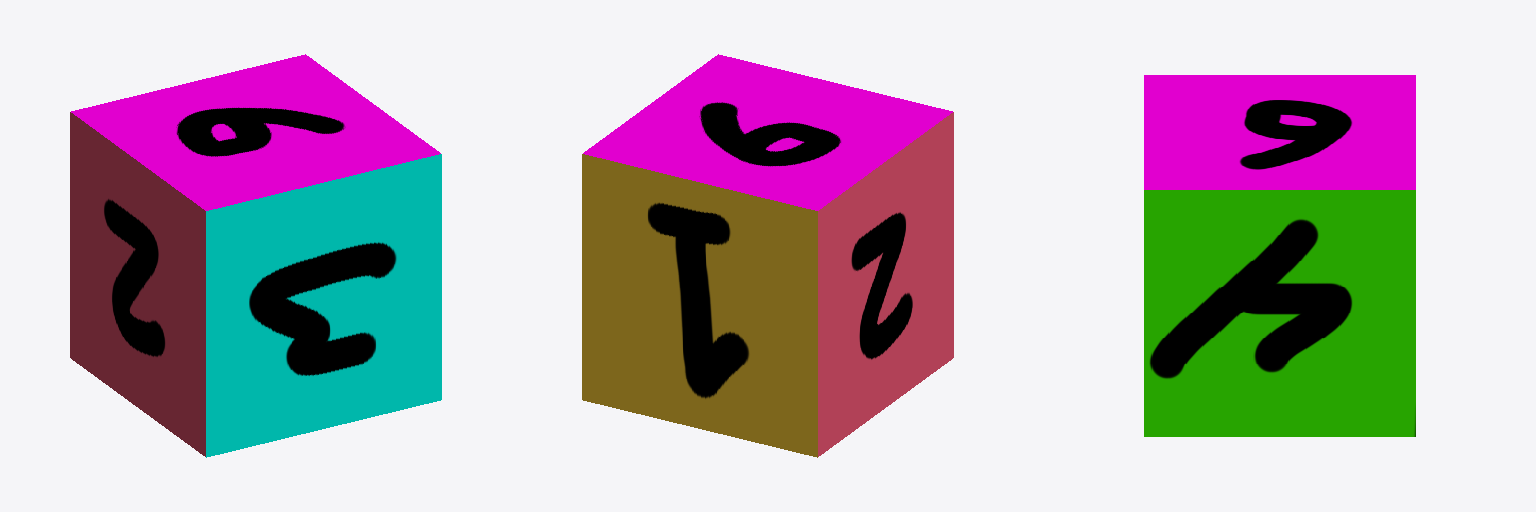
3 views of the same model, side by side, from view 1: azimuth 30°, elevation 25°; view 2: azimuth 150°, elevation 25°; view 3: azimuth 270°, elevation 25° (orthographic).
Parts seen in each view (by area): view 1: Cube; view 2: Cube; view 3: Cube.
Boxes of the visible parts, <box> form: Cube: <box>70,54,441,457</box>; Cube: <box>582,54,953,457</box>; Cube: <box>1144,75,1415,436</box>.
Bounding box in the file's own units: 2 × 2 × 2.
1 materials, 1 textured.